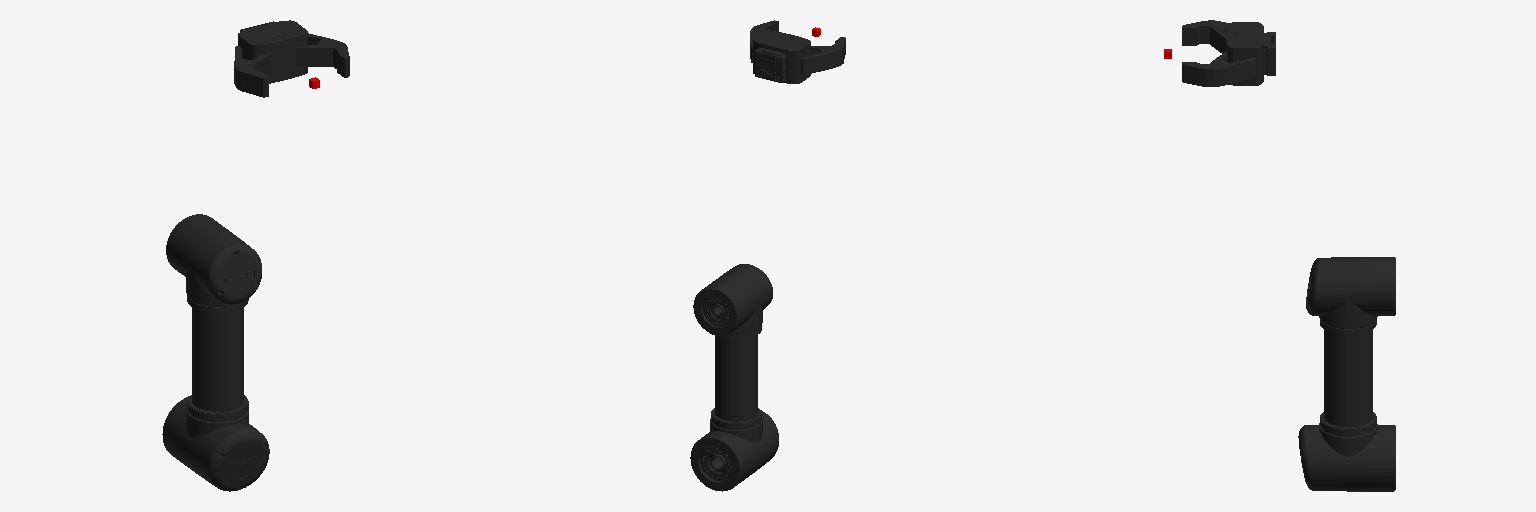
The robot description file, URDF, robot "omy_f3m":
<?xml version="1.0" ?>
<!-- =================================================================================== -->
<!-- |    This document was autogenerated by xacro from omy_f3m.urdf.xacro             | -->
<!-- |    EDITING THIS FILE BY HAND IS NOT RECOMMENDED                                 | -->
<!-- =================================================================================== -->
<robot name="omy_f3m">
  <link name="world"/>
  <joint name="world_fixed" type="fixed">
    <parent link="world"/>
    <child link="link0"/>
    <origin rpy="0 0 0" xyz="0 0 0"/>
  </joint>
  <joint name="gripper_fixed" type="fixed">
    <origin rpy="1.57 -1.57 0" xyz="0 -0.006 0"/>
    <parent link="end_effector_flange_link"/>
    <axis xyz="0 0 0"/>
    <child link="rh_p12_rn_base"/>
  </joint>
  <joint name="end_effector_joint" type="fixed">
    <parent link="end_effector_flange_link"/>
    <child link="end_effector_link"/>
    <origin rpy="0 0 0" xyz="0 -0.141 0"/>
  </joint>
  <link name="end_effector_link">
    <visual>
      <origin rpy="0 0 0" xyz="0 0 0"/>
      <geometry>
        <box size="0.01 0.01 0.01"/>
      </geometry>
      <material name="red">
        <color rgba="1.0 0.0 0.0 1"/>
      </material>
    </visual>
  </link>
  <link name="link0">
    <visual>
      <origin rpy="0 0 0" xyz="0 0 0"/>
      <geometry>
        <mesh filename="package://open_manipulator_description/meshes/omy_f3m//base_unit.stl" scale="0.001 0.001 0.001"/>
      </geometry>
      <material name="grey">
        <color rgba="0.2 0.2 0.2 1"/>
      </material>
    </visual>
    <collision>
      <origin rpy="0 0 0" xyz="0 0 0.03"/>
      <geometry>
        <cylinder length="0.05" radius="0.08"/>
      </geometry>
    </collision>
    <inertial>
      <origin xyz="-4.021582400e-03 1.308399100e-03 5.507347000e-02"/>
      <mass value="1.528748600e+00"/>
      <inertia ixx="4.642820300e-03" ixy="4.440553200e-05" ixz="-1.504929600e-04" iyy="4.973695500e-03" iyz="2.075604700e-05" izz="6.407832100e-03"/>
    </inertial>
  </link>
  <joint name="joint1" type="revolute">
    <parent link="link0"/>
    <child link="link1"/>
    <origin rpy="0 0 0" xyz="0.0 0.0 0.1715"/>
    <axis xyz="0 0 1"/>
    <limit effort="1000" lower="-6.283185307179586" upper="6.283185307179586" velocity="4.8"/>
    <dynamics damping="0.05"/>
  </joint>
  <link name="link1">
    <visual>
      <origin rpy="0 0 0" xyz="0 0 0"/>
      <geometry>
        <mesh filename="package://open_manipulator_description/meshes/omy_f3m//link1.stl" scale="0.001 0.001 0.001"/>
      </geometry>
      <material name="grey">
        <color rgba="0.2 0.2 0.2 1"/>
      </material>
    </visual>
    <collision>
      <origin rpy="0 0 0" xyz="0 -0.01 -0.035"/>
      <geometry>
        <cylinder length="0.1" radius="0.055"/>
      </geometry>
    </collision>
    <inertial>
      <origin xyz="-1.106361500e-04 -5.471127000e-03 -1.589773300e-02"/>
      <mass value="2.064883200e+00"/>
      <inertia ixx="3.033219000e-03" ixy="5.179283800e-06" ixz="3.335796100e-06" iyy="2.727672400e-03" iyz="1.793495300e-04" izz="2.282657600e-03"/>
    </inertial>
  </link>
  <joint name="joint2" type="revolute">
    <parent link="link1"/>
    <child link="link2"/>
    <origin rpy="0 0 0" xyz="0 -0.1215 0.0"/>
    <axis xyz="0 1 0"/>
    <limit effort="1000" lower="-6.283185307179586" upper="6.283185307179586" velocity="4.8"/>
    <dynamics damping="0.1"/>
  </joint>
  <link name="link2">
    <visual>
      <origin rpy="0 0 0" xyz="0 0 0"/>
      <geometry>
        <mesh filename="package://open_manipulator_description/meshes/omy_f3m//link2.stl" scale="0.001 0.001 0.001"/>
      </geometry>
      <material name="grey">
        <color rgba="0.2 0.2 0.2 1"/>
      </material>
    </visual>
    <collision>
      <origin rpy="0 0 0" xyz="-0.005 -0.02 0.13"/>
      <geometry>
        <cylinder length="0.28" radius="0.046"/>
      </geometry>
    </collision>
    <inertial>
      <origin xyz="1.140537900e-05 1.618424400e-02 1.036063400e-01"/>
      <mass value="3.679539500e+00"/>
      <inertia ixx="5.173191800e-02" ixy="2.395881900e-06" ixz="5.789396000e-05" iyy="5.035340100e-02" iyz="-4.382571600e-04" izz="4.501436000e-03"/>
    </inertial>
  </link>
  <joint name="joint3" type="revolute">
    <parent link="link2"/>
    <child link="link3"/>
    <origin rpy="0 0 0" xyz="0 0 0.247"/>
    <axis xyz="0 1 0"/>
    <limit effort="1000" lower="-6.283185307179586" upper="6.283185307179586" velocity="4.8"/>
    <dynamics damping="0.1"/>
  </joint>
  <link name="link3">
    <visual>
      <origin rpy="0 0 0" xyz="0 0 0"/>
      <geometry>
        <mesh filename="package://open_manipulator_description/meshes/omy_f3m//link3.stl" scale="0.001 0.001 0.001"/>
      </geometry>
      <material name="grey">
        <color rgba="0.2 0.2 0.2 1"/>
      </material>
    </visual>
    <collision>
      <origin rpy="0 0 0" xyz="0 0.125 0.08"/>
      <geometry>
        <cylinder length="0.17" radius="0.042"/>
      </geometry>
    </collision>
    <inertial>
      <origin xyz="7.814868900e-05 1.071848100e-01 1.411726700e-01"/>
      <mass value="2.386591600e+00"/>
      <inertia ixx="2.269439900e-02" ixy="-9.414242800e-07" ixz="-1.855175700e-05" iyy="2.192008700e-02" iyz="1.917938700e-04" izz="2.776155900e-03"/>
    </inertial>
  </link>
  <joint name="joint4" type="revolute">
    <parent link="link3"/>
    <child link="link4"/>
    <origin rpy="0 0 0" xyz="0 0.1215 0.2195"/>
    <axis xyz="0 1 0"/>
    <limit effort="1000" lower="-6.283185307179586" upper="6.283185307179586" velocity="4.8"/>
    <dynamics damping="0.1"/>
  </joint>
  <link name="link4">
    <visual>
      <origin rpy="0 0 0" xyz="0 0 0"/>
      <geometry>
        <mesh filename="package://open_manipulator_description/meshes/omy_f3m//link4.stl" scale="0.001 0.001 0.001"/>
      </geometry>
      <material name="grey">
        <color rgba="0.2 0.2 0.2 1"/>
      </material>
    </visual>
    <collision>
      <origin rpy="1.57 0 0" xyz="0 0 0"/>
      <geometry>
        <cylinder length="0.10" radius="0.045"/>
      </geometry>
    </collision>
    <inertial>
      <origin xyz="-1.331825600e-04 -1.074666700e-01 1.909068800e-02"/>
      <mass value="1.400234700e+00"/>
      <inertia ixx="1.754567900e-03" ixy="-4.586337900e-06" ixz="-1.775914200e-06" iyy="1.565214700e-03" iyz="1.533991300e-04" izz="1.215983900e-03"/>
    </inertial>
  </link>
  <joint name="joint5" type="revolute">
    <parent link="link4"/>
    <child link="link5"/>
    <origin rpy="0 0 0" xyz="0 -0.113 0"/>
    <axis xyz="0 0 1"/>
    <limit effort="1000" lower="-6.283185307179586" upper="6.283185307179586" velocity="4.8"/>
    <dynamics damping="0.1"/>
  </joint>
  <link name="link5">
    <visual>
      <origin rpy="0 0 0" xyz="0 0 0"/>
      <geometry>
        <mesh filename="package://open_manipulator_description/meshes/omy_f3m//link5.stl" scale="0.001 0.001 0.001"/>
      </geometry>
      <material name="grey">
        <color rgba="0.2 0.2 0.2 1"/>
      </material>
    </visual>
    <collision>
      <origin rpy="0 0 0" xyz="0 0.01 0.005"/>
      <geometry>
        <cylinder length="0.05" radius="0.043"/>
      </geometry>
    </collision>
    <inertial>
      <origin xyz="1.331825600e-04 -1.909068800e-02 1.099666700e-01"/>
      <mass value="1.400234700e+00"/>
      <inertia ixx="1.754567900e-03" ixy="-1.775914300e-06" ixz="-4.586337600e-06" iyy="1.215983900e-03" iyz="1.533991300e-04" izz="1.565214700e-03"/>
    </inertial>
  </link>
  <joint name="joint6" type="revolute">
    <parent link="link5"/>
    <child link="link6"/>
    <origin rpy="0 0 0" xyz="0 0 0.1155"/>
    <axis xyz="0 1 0"/>
    <limit effort="1000" lower="-6.283185307179586" upper="6.283185307179586" velocity="4.8"/>
    <dynamics damping="0.1"/>
  </joint>
  <link name="link6">
    <visual>
      <origin rpy="0 0 0" xyz="0 0 0"/>
      <geometry>
        <mesh filename="package://open_manipulator_description/meshes/omy_f3m//link6.stl" scale="0.001 0.001 0.001"/>
      </geometry>
      <material name="grey">
        <color rgba="0.2 0.2 0.2 1"/>
      </material>
    </visual>
    <collision>
      <origin rpy="1.57 0 0" xyz="0 -0.1 0"/>
      <geometry>
        <cylinder length="0.22" radius="0.08"/>
      </geometry>
    </collision>
    <inertial>
      <origin xyz="1.108014600e-05 -8.059405600e-02 9.302933700e-03"/>
      <mass value="4.001547500e-01"/>
      <inertia ixx="5.674127600e-04" ixy="2.007333900e-07" ixz="-1.234534700e-06" iyy="6.296670600e-04" iyz="-5.631880500e-05" izz="1.989051500e-04"/>
    </inertial>
  </link>
  <joint name="end_effector_flange_joint" type="fixed">
    <parent link="link6"/>
    <child link="end_effector_flange_link"/>
    <origin rpy="0 0 0" xyz="0 -0.103 0"/>
  </joint>
  <link name="end_effector_flange_link">
    <visual>
      <origin rpy="0 0 0" xyz="0 0 0"/>
      <geometry>
        <mesh filename="package://open_manipulator_description/meshes/omy_f3m//flange.stl" scale="0.001 0.001 0.001"/>
      </geometry>
      <material name="grey">
        <color rgba="0.2 0.2 0.2 1"/>
      </material>
    </visual>
    <collision>
      <origin rpy="0 0 0" xyz="0 0.03 0.04"/>
      <geometry>
        <cylinder length="0.12" radius="0.035"/>
      </geometry>
    </collision>
    <inertial>
      <origin xyz="0.000000000e+00 -3.190310200e-03 0.000000000e+00"/>
      <mass value="1.661875800e-02"/>
      <inertia ixx="2.907575800e-06" ixy="0.000000000e+00" ixz="0.000000000e+00" iyy="8.125431100e-06" iyz="0.000000000e+00" izz="5.492618100e-06"/>
    </inertial>
  </link>
  <!-- base -->
  <link name="rh_p12_rn_base">
    <collision>
      <origin rpy="0 0 0" xyz="0 0 0"/>
      <geometry>
        <mesh filename="package://open_manipulator_description/meshes/rh_p12_rn_a/base.stl" scale="0.001 0.001 0.001"/>
      </geometry>
    </collision>
    <visual>
      <origin rpy="0 0 0" xyz="0 0 0"/>
      <geometry>
        <mesh filename="package://open_manipulator_description/meshes/rh_p12_rn_a/base.stl" scale="0.001 0.001 0.001"/>
      </geometry>
      <material name="grey">
        <color rgba="0.2 0.2 0.2 1"/>
      </material>
    </visual>
    <inertial>
      <origin rpy="0 0 0" xyz="0.000 0.000 0.032"/>
      <mass value="0.236"/>
      <inertia ixx="0.000001" ixy="0.0" ixz="0.0" iyy="0.000001" iyz="0.0" izz="0.000001"/>
    </inertial>
  </link>
  <!-- Joint -->
  <joint name="rh_r1_joint" type="revolute">
    <parent link="rh_p12_rn_base"/>
    <child link="rh_p12_rn_r1"/>
    <origin rpy="0 0 0" xyz="0.0 0.008 0.048"/>
    <axis xyz="1 0 0"/>
    <limit effort="1000" lower="0.0" upper="1.13514578304" velocity="6.5"/>
    <dynamics damping="0.7"/>
  </joint>
  <!-- rh_p12_rn_r1 -->
  <link name="rh_p12_rn_r1">
    <collision>
      <origin rpy="0 0 0" xyz="0 0 0"/>
      <geometry>
        <mesh filename="package://open_manipulator_description/meshes/rh_p12_rn_a/r1.stl" scale="0.001 0.001 0.001"/>
      </geometry>
    </collision>
    <visual>
      <origin rpy="0 0 0" xyz="0 0 0"/>
      <geometry>
        <mesh filename="package://open_manipulator_description/meshes/rh_p12_rn_a/r1.stl" scale="0.001 0.001 0.001"/>
      </geometry>
      <material name="grey">
        <color rgba="0.2 0.2 0.2 1"/>
      </material>
    </visual>
    <inertial>
      <origin rpy="0 0 0" xyz="0.000 0.034 0.004"/>
      <mass value="0.068"/>
      <inertia ixx="0.000001" ixy="0.0" ixz="0.0" iyy="0.000001" iyz="0.0" izz="0.000001"/>
    </inertial>
  </link>
  <!-- Right Joint 2 -->
  <joint name="rh_r2" type="revolute">
    <parent link="rh_p12_rn_r1"/>
    <child link="rh_p12_rn_r2"/>
    <origin rpy="0 0 0" xyz="0.0 0.0493634 0.0285"/>
    <axis xyz="-1 0 0"/>
    <limit effort="1000" lower="0.0" upper="1.13514578304" velocity="6.5"/>
    <dynamics damping="0.7"/>
    <mimic joint="rh_r1_joint" multiplier="1"/>
  </joint>
  <!-- rh_p12_rn_r2 -->
  <link name="rh_p12_rn_r2">
    <collision>
      <origin rpy="0 0 0" xyz="0 0 0"/>
      <geometry>
        <mesh filename="package://open_manipulator_description/meshes/rh_p12_rn_a/r2.stl" scale="0.001 0.001 0.001"/>
      </geometry>
    </collision>
    <visual>
      <origin rpy="0 0 0" xyz="0 0 0"/>
      <geometry>
        <mesh filename="package://open_manipulator_description/meshes/rh_p12_rn_a/r2.stl" scale="0.001 0.001 0.001"/>
      </geometry>
      <material name="grey">
        <color rgba="0.2 0.2 0.2 1"/>
      </material>
    </visual>
    <inertial>
      <origin rpy="0 0 0" xyz="0.000 0.006 0.011"/>
      <mass value="0.022"/>
      <inertia ixx="0.000001" ixy="0.0" ixz="0.0" iyy="0.000001" iyz="0.0" izz="0.000001"/>
    </inertial>
  </link>
  <!-- Left Joint 1 -->
  <joint name="rh_l1" type="revolute">
    <parent link="rh_p12_rn_base"/>
    <child link="rh_p12_rn_l1"/>
    <origin rpy="0 0 0" xyz="0.0 -0.008 0.048"/>
    <axis xyz="-1 0 0"/>
    <limit effort="1000" lower="0.0" upper="1.13514578304" velocity="6.5"/>
    <dynamics damping="0.7"/>
    <mimic joint="rh_r1_joint" multiplier="1"/>
  </joint>
  <!-- rh_p12_rn_l1 -->
  <link name="rh_p12_rn_l1">
    <collision>
      <origin rpy="0 0 0" xyz="0 0 0"/>
      <geometry>
        <mesh filename="package://open_manipulator_description/meshes/rh_p12_rn_a/l1.stl" scale="0.001 0.001 0.001"/>
      </geometry>
    </collision>
    <visual>
      <origin rpy="0 0 0" xyz="0 0 0"/>
      <geometry>
        <mesh filename="package://open_manipulator_description/meshes/rh_p12_rn_a/l1.stl" scale="0.001 0.001 0.001"/>
      </geometry>
      <material name="grey">
        <color rgba="0.2 0.2 0.2 1"/>
      </material>
    </visual>
    <inertial>
      <origin rpy="0 0 0" xyz="0.000 -0.034 0.004"/>
      <mass value="0.068"/>
      <inertia ixx="0.000001" ixy="0.0" ixz="0.0" iyy="0.000001" iyz="0.0" izz="0.000001"/>
    </inertial>
  </link>
  <!-- Left Joint 2 -->
  <joint name="rh_l2" type="revolute">
    <parent link="rh_p12_rn_l1"/>
    <child link="rh_p12_rn_l2"/>
    <origin rpy="0 0 0" xyz="0.0 -0.0493634 0.0285"/>
    <axis xyz="1 0 0"/>
    <limit effort="1000" lower="0.0" upper="1.13514578304" velocity="6.5"/>
    <dynamics damping="0.7"/>
    <mimic joint="rh_r1_joint" multiplier="1"/>
  </joint>
  <!-- rh_p12_rn_l2 -->
  <link name="rh_p12_rn_l2">
    <collision>
      <origin rpy="0 0 0" xyz="0 0 0"/>
      <geometry>
        <mesh filename="package://open_manipulator_description/meshes/rh_p12_rn_a/l2.stl" scale="0.001 0.001 0.001"/>
      </geometry>
    </collision>
    <visual>
      <origin rpy="0 0 0" xyz="0 0 0"/>
      <geometry>
        <mesh filename="package://open_manipulator_description/meshes/rh_p12_rn_a/l2.stl" scale="0.001 0.001 0.001"/>
      </geometry>
      <material name="grey">
        <color rgba="0.2 0.2 0.2 1"/>
      </material>
    </visual>
    <inertial>
      <origin rpy="0 0 0" xyz="0.000 -0.006 0.011"/>
      <mass value="0.022"/>
      <inertia ixx="0.000001" ixy="0.0" ixz="0.0" iyy="0.000001" iyz="0.0" izz="0.000001"/>
    </inertial>
  </link>
</robot>

--- Render facts (derived) ---
Views: 3 orthographic renders of the robot side by side, from view 1: azimuth 30°, elevation 25°; view 2: azimuth 150°, elevation 25°; view 3: azimuth 270°, elevation 25°.
Model omy_f3m with 15 links and 14 joints (10 revolute, 4 fixed), rooted at world, posed all joints at 0.
Visible links, largest first — view 1: link2, rh_p12_rn_base, rh_p12_rn_l1, rh_p12_rn_r2; view 2: link2, rh_p12_rn_base, rh_p12_rn_r1, end_effector_flange_link; view 3: link2, rh_p12_rn_base, rh_p12_rn_l1, rh_p12_rn_l2, rh_p12_rn_r2.
Boxes of the visible links, left/top/right/bottom form: link2: left=162, top=214, right=269, bottom=491; rh_p12_rn_base: left=238, top=20, right=307, bottom=83; rh_p12_rn_l1: left=296, top=33, right=337, bottom=66; rh_p12_rn_r2: left=234, top=63, right=268, bottom=97; link2: left=690, top=264, right=778, bottom=491; rh_p12_rn_base: left=753, top=30, right=810, bottom=83; rh_p12_rn_r1: left=801, top=46, right=835, bottom=74; end_effector_flange_link: left=755, top=48, right=785, bottom=82; link2: left=1298, top=257, right=1395, bottom=491; rh_p12_rn_base: left=1226, top=22, right=1270, bottom=85; rh_p12_rn_l1: left=1210, top=51, right=1256, bottom=85; rh_p12_rn_l2: left=1182, top=62, right=1222, bottom=86; rh_p12_rn_r2: left=1182, top=20, right=1223, bottom=45.
Size in the robot's own frame: 0.1508 by 0.3025 by 0.6525 metres.
Meshes: 13 distinct files referenced, 7 mesh visuals loaded (7 binary STL); not drawn: 6 (reference not matched to a file when rendering).
